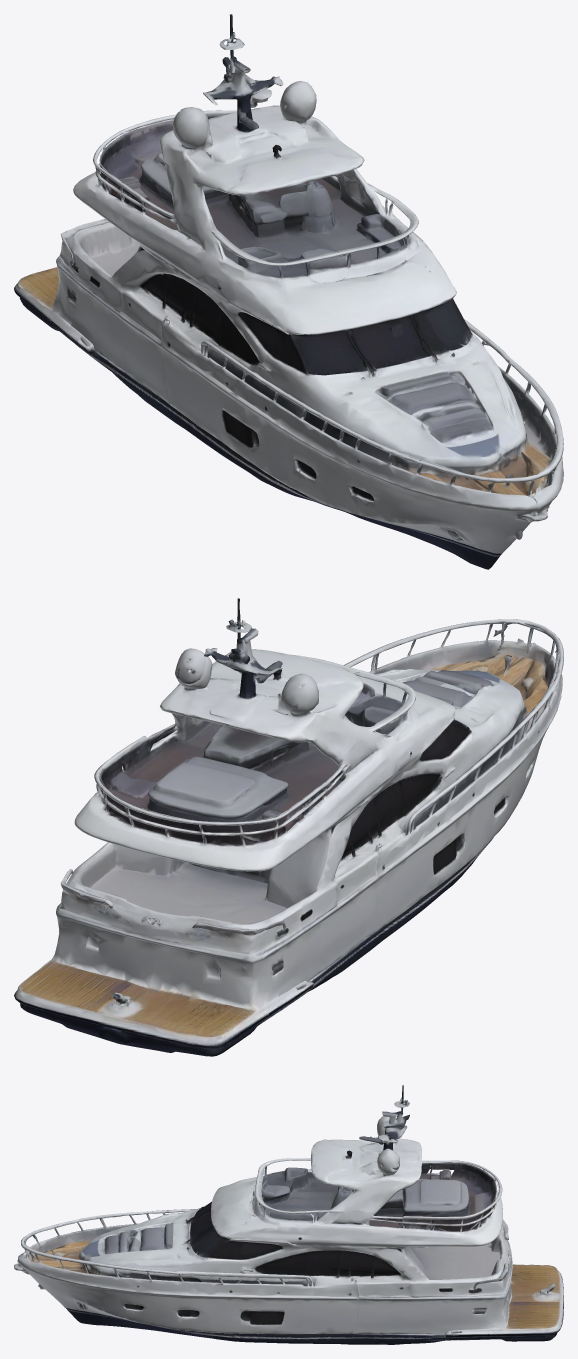
Rendered from yat.glb.
3 views of the same model, one above another, from view 1: azimuth 30°, elevation 25°; view 2: azimuth 150°, elevation 25°; view 3: azimuth 270°, elevation 25° (orthographic). The views are drawn at different scales.
Parts seen in each view (by area): view 1: tripo_node_448895fd-2d14-4bd8-b4d0-86f1297a2fea; view 2: tripo_node_448895fd-2d14-4bd8-b4d0-86f1297a2fea; view 3: tripo_node_448895fd-2d14-4bd8-b4d0-86f1297a2fea.
Boxes of the visible parts, box(x1,y1,x2,y2) form: tripo_node_448895fd-2d14-4bd8-b4d0-86f1297a2fea: box(14, 14, 563, 569); tripo_node_448895fd-2d14-4bd8-b4d0-86f1297a2fea: box(14, 598, 563, 1056); tripo_node_448895fd-2d14-4bd8-b4d0-86f1297a2fea: box(14, 1085, 563, 1344).
Bounding box in the file's own units: 0.3031 × 0.4832 × 1.
1 material, 1 textured.
